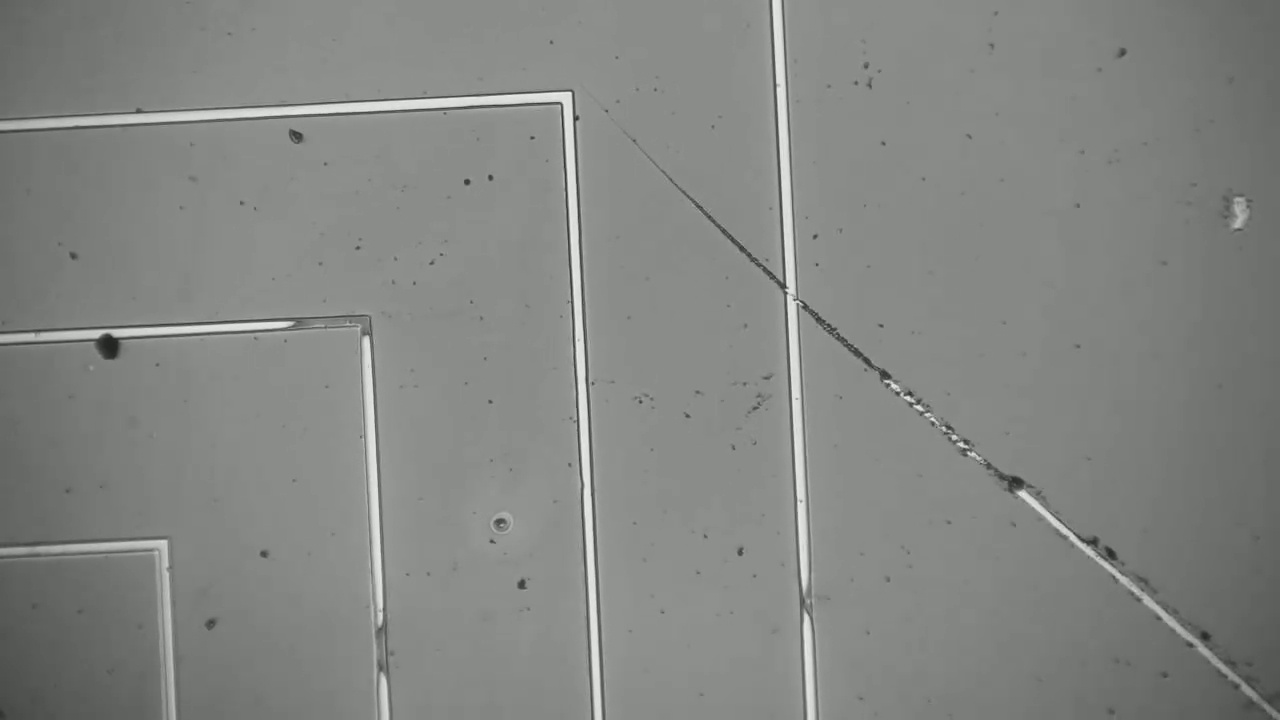gray_line: (264, 298, 398, 345), (356, 607, 404, 693), (782, 569, 831, 646), (338, 295, 385, 367)
scratch: (592, 104, 1279, 716)
